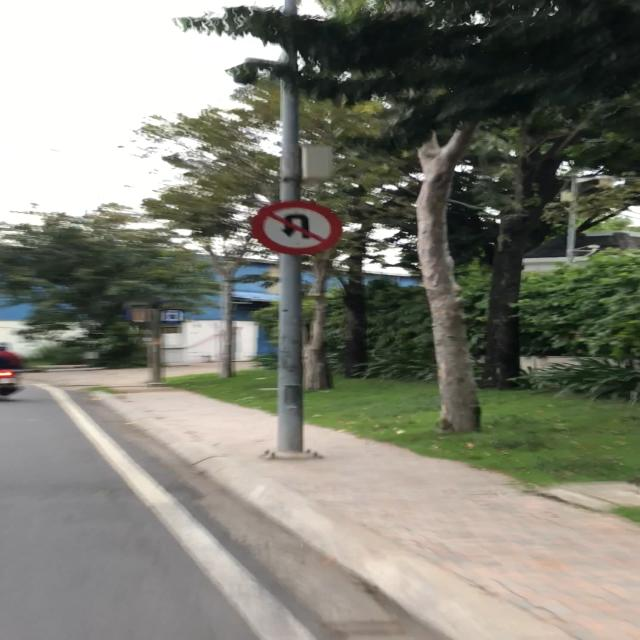Bien bao cam quay dau xe: (250, 197, 344, 256)
